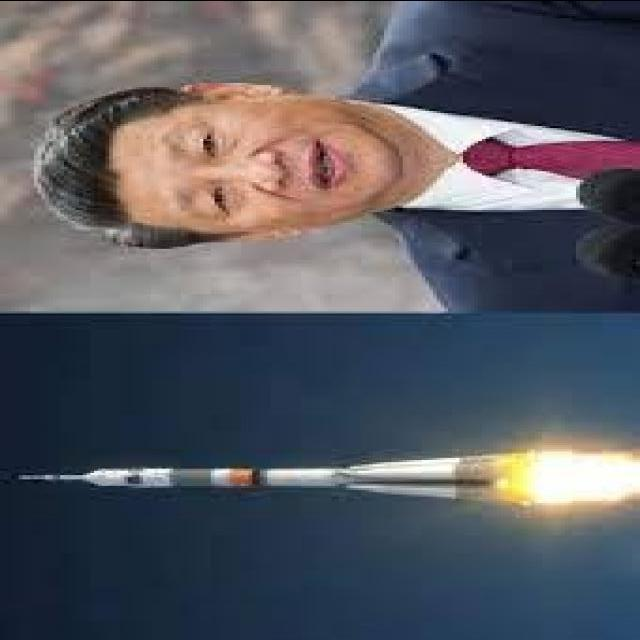Missile: (77, 450, 386, 505)
